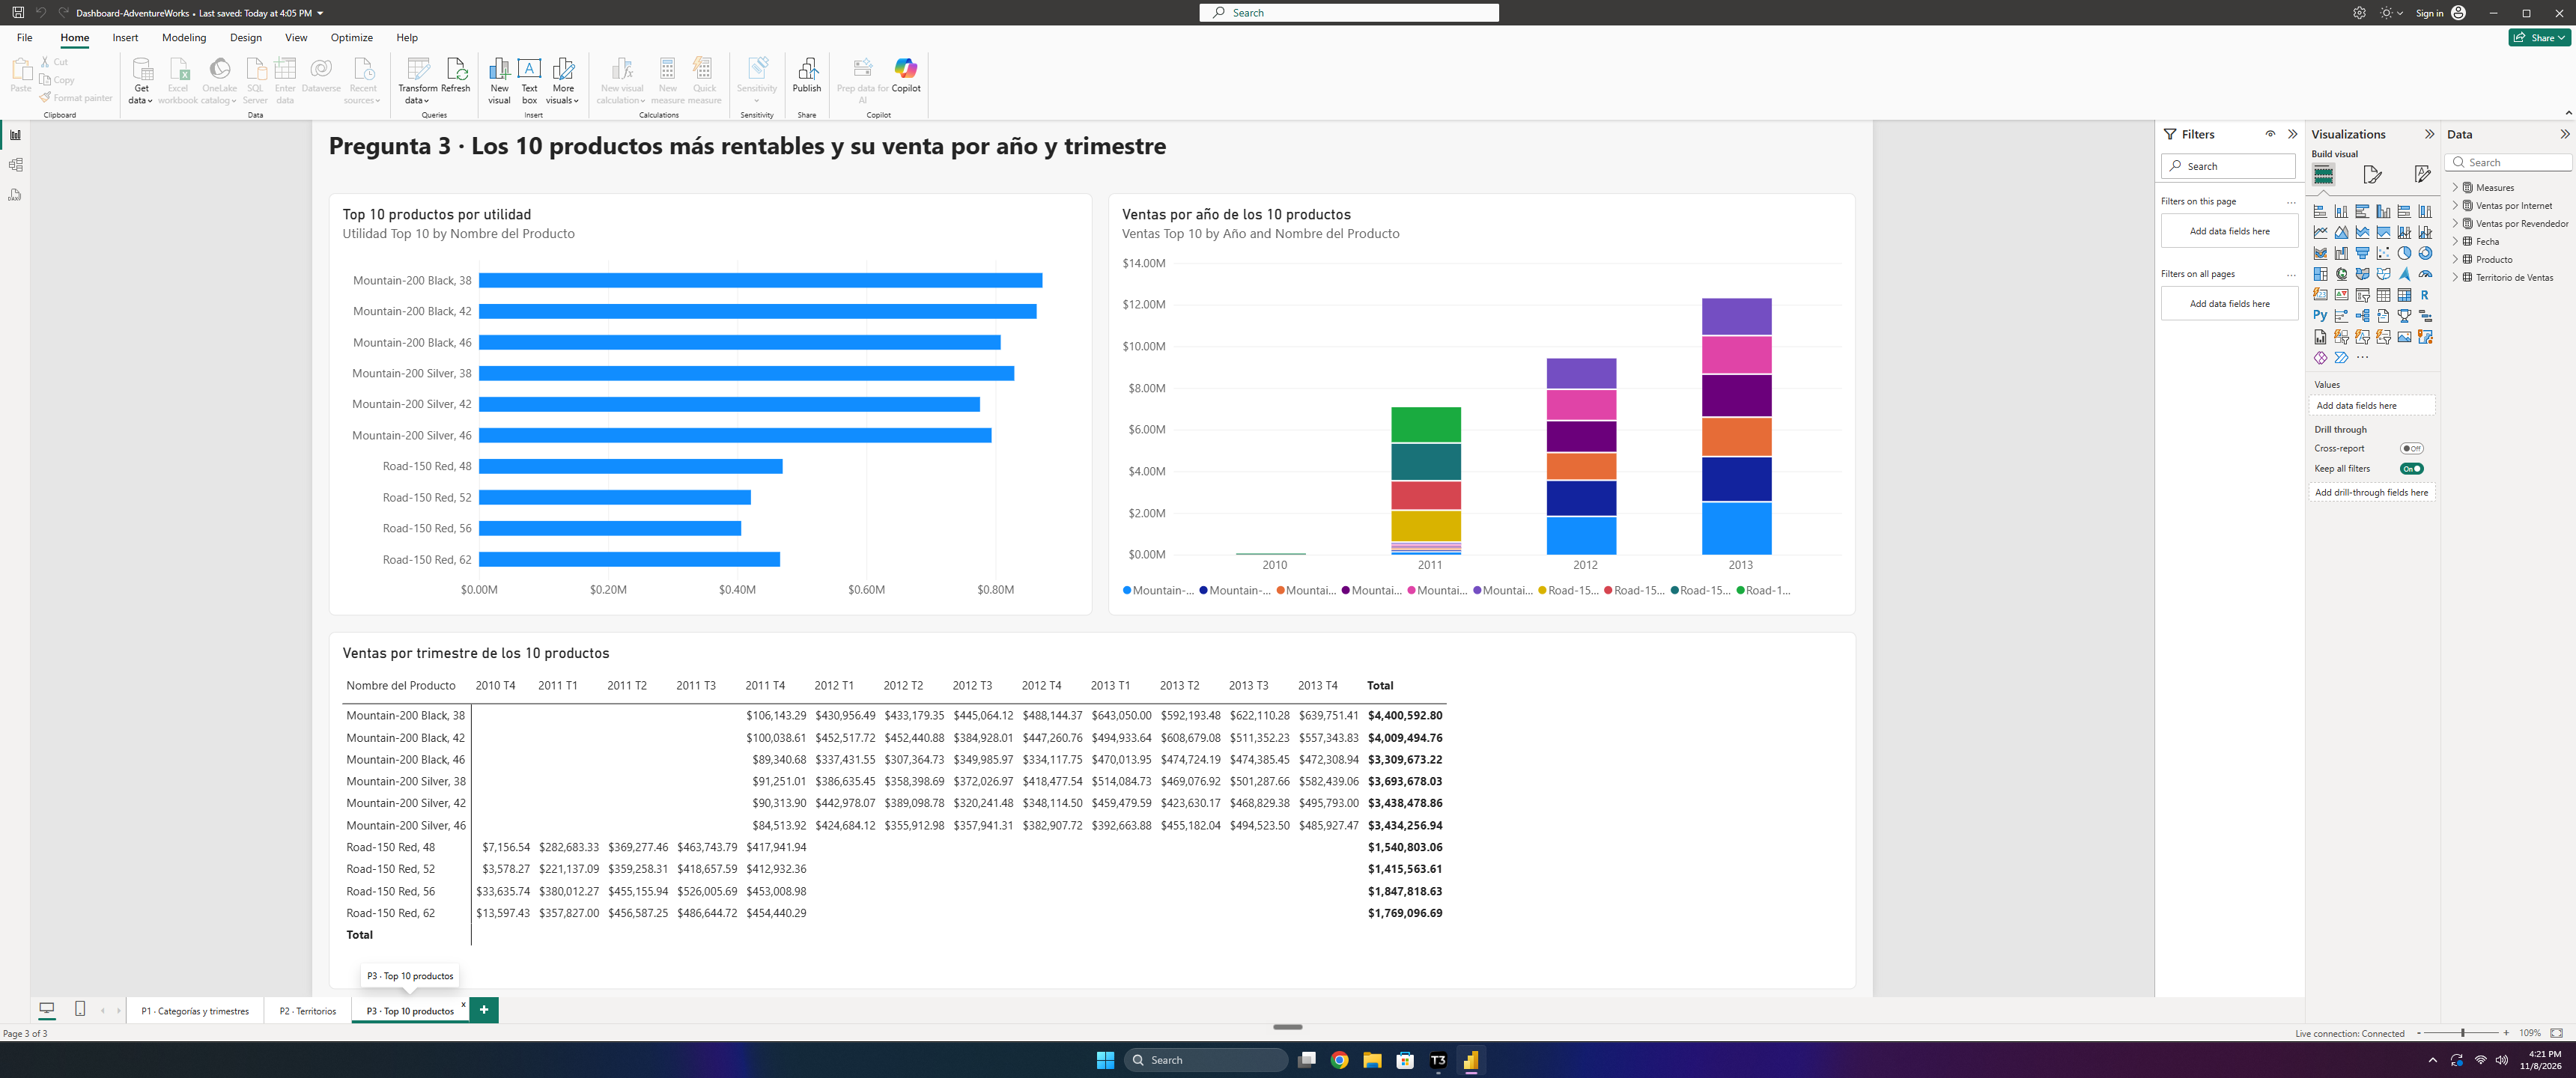

The page's visual inventory and layout, read from the dashboard file:
{"tool":"powerbi","page":{"name":"P3 · Top 10 productos","canvas":[1920,1080],"ordinal":2},"visuals":[{"type":"textbox","box":[20,10,1880,70],"z":0},{"type":"clusteredBarChart","title":"Top 10 productos por utilidad","fields":{"Category":["Producto.Nombre del Producto"],"Y":["Measures.Utilidad Top 10"]},"box":[20,90,940,520],"z":1},{"type":"columnChart","title":"Ventas por año de los 10 productos","fields":{"Category":["Fecha.Año"],"Series":["Producto.Nombre del Producto"],"Y":["Measures.Ventas Top 10"]},"box":[980,90,920,520],"z":2},{"type":"pivotTable","title":"Ventas por trimestre de los 10 productos","fields":{"Rows":["Producto.Nombre del Producto"],"Columns":["Fecha.Trimestre"],"Values":["Measures.Ventas Top 10"]},"box":[20,630,1880,440],"z":3}]}

Visuals, with their boxes on the page's 1920x1080 design canvas (x1, y1, x2, y2). These are canvas units, not pixel positions in the 2576x1078 screenshot, which may show the page scaled, cropped or inside an application window:
textbox: {"left": 20, "top": 10, "right": 1900, "bottom": 80}
"Top 10 productos por utilidad" clusteredBarChart: {"left": 20, "top": 90, "right": 960, "bottom": 610}
"Ventas por año de los 10 productos" columnChart: {"left": 980, "top": 90, "right": 1900, "bottom": 610}
"Ventas por trimestre de los 10 productos" pivotTable: {"left": 20, "top": 630, "right": 1900, "bottom": 1070}
